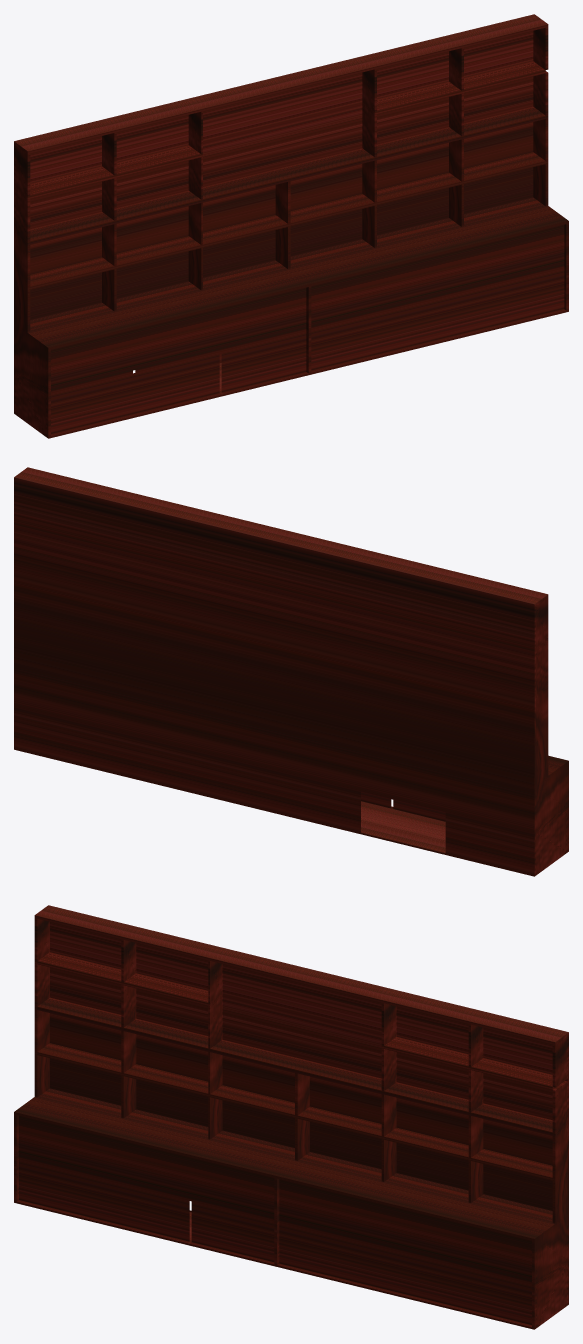
The model's file is bar_cabnet.fbx.
The picture shows the model from 3 angles, top to bottom: view 1: azimuth 30°, elevation 25°; view 2: azimuth 150°, elevation 25°; view 3: azimuth 330°, elevation 25°; orthographic projection.
Parts seen in each view (by area): view 1: pCube1; view 2: pCube1; view 3: pCube1.
Part boxes in pixels (x1,y1,x2,y2): pCube1: [14, 14, 568, 438]; pCube1: [14, 467, 568, 876]; pCube1: [14, 905, 568, 1329].
Bounding box in the file's own units: 24 × 12 × 2.75.
Materials: 1 (1 with a texture image).
